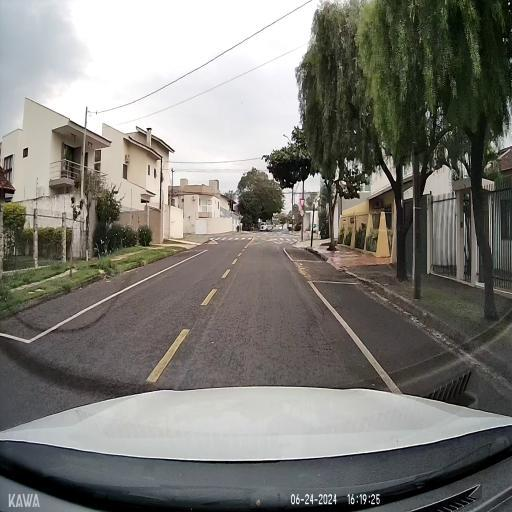R-2: (300, 198, 304, 208)
R-33: (300, 210, 304, 216)
